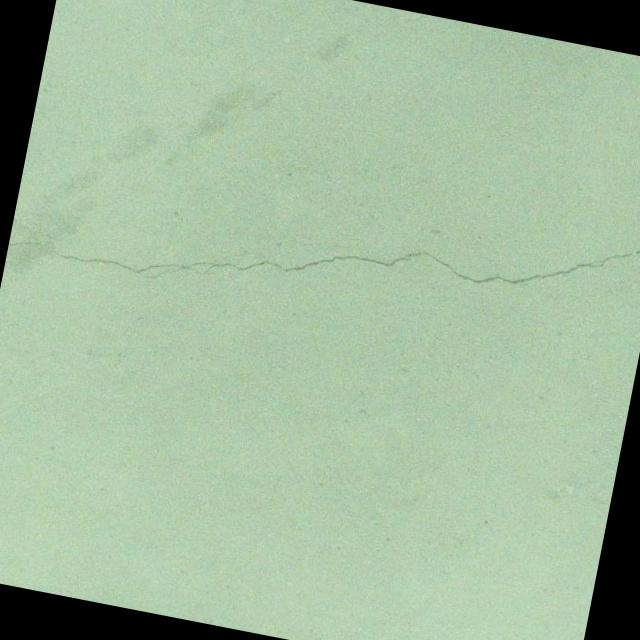crack: (7, 113, 640, 374)
